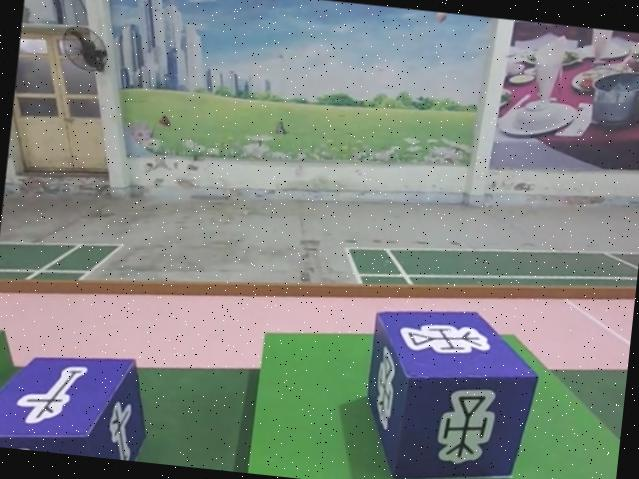R2 Real Blue: (352, 296, 546, 479), (0, 338, 151, 461)
